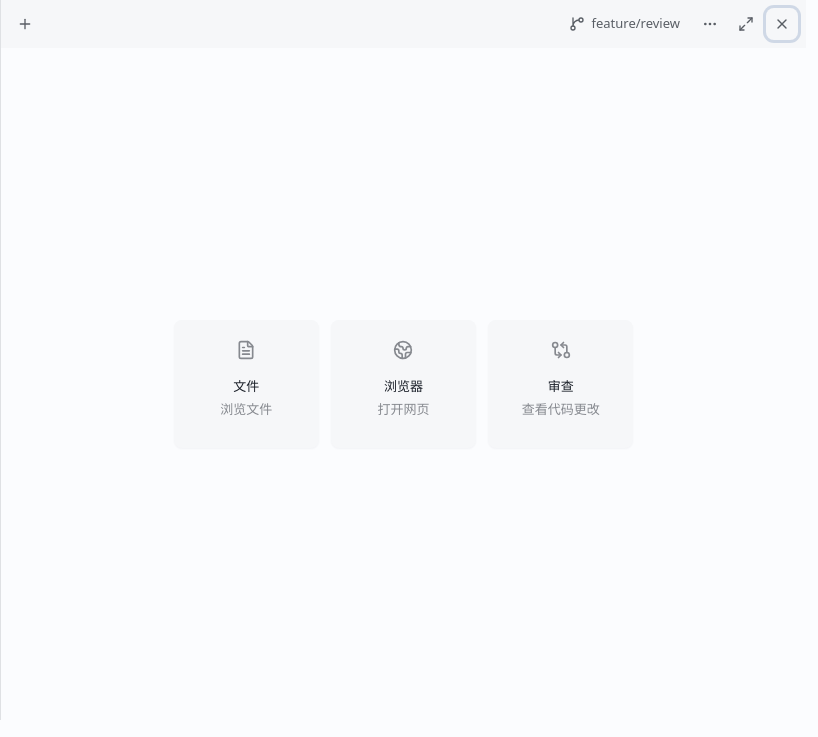
ReviewWorkspacePanel › shows project file tree errors inside file tabs
Click the button "文件 浏览文件" at (246, 384), box [174,320,319,448]
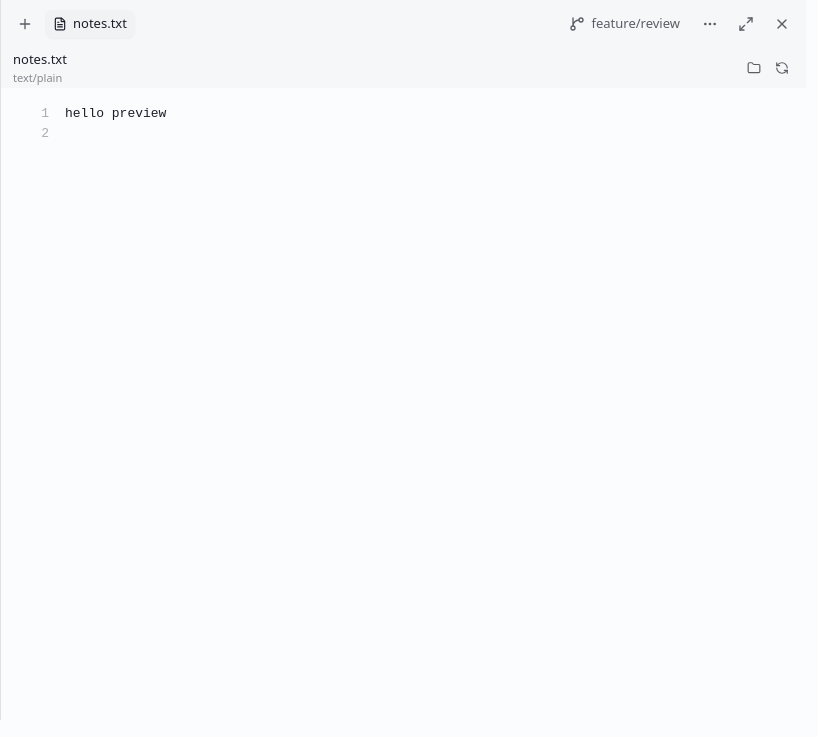
Check: the tab "notes.txt" is shown, box [45,10,135,38]
Click the button named "显示项目文件树" at (754, 68), box [742,56,766,80]
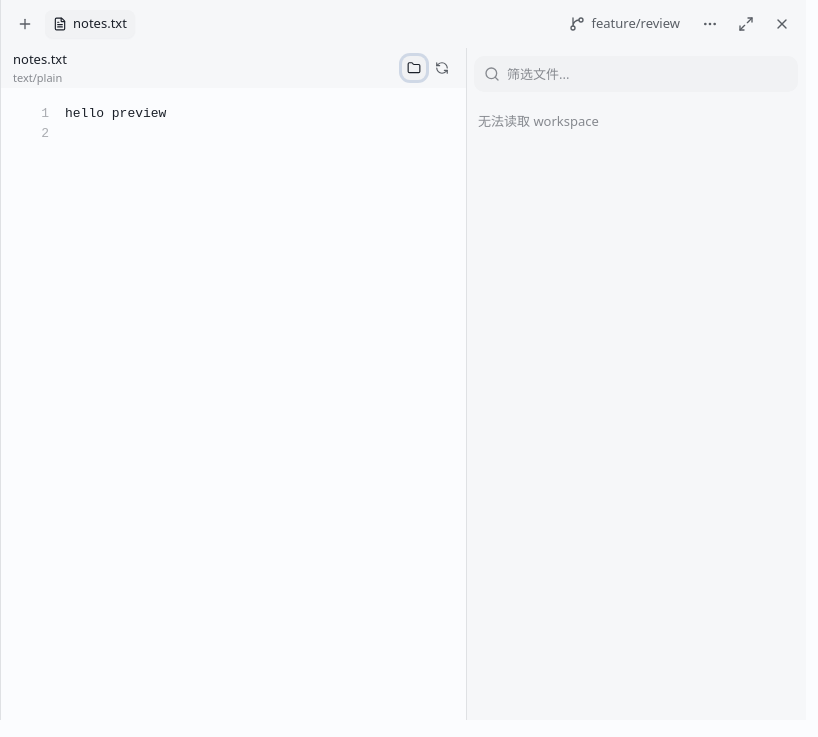
Check: the text "无法读取 workspace" is shown, box [478,112,599,130]
